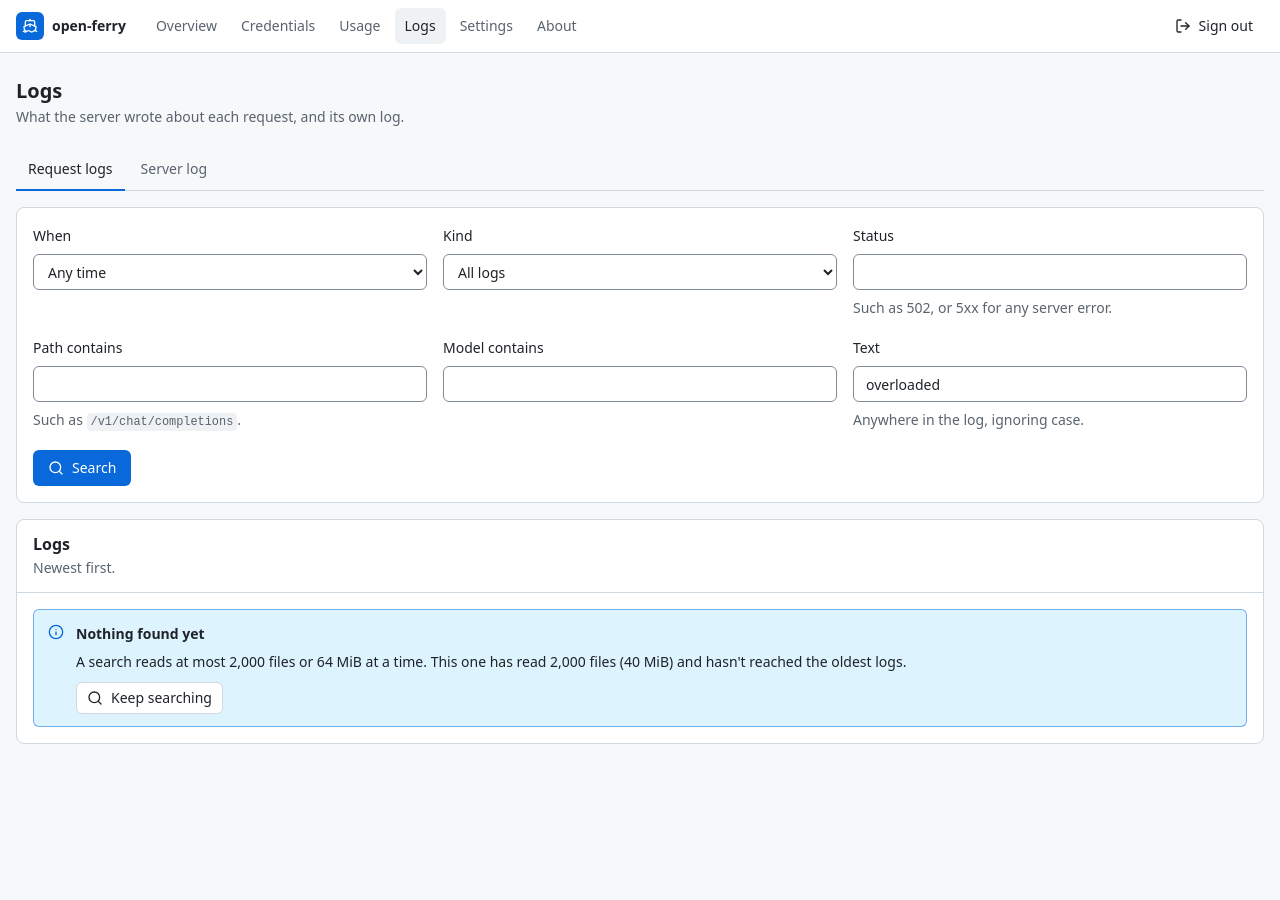
it: the request log search › offers to keep searching where a search stopped at its limit, not 'no results'
The width and height of the screenshot is (1280, 900).
Expected: the text "Nothing found yet" is shown, top-left (76, 624), bottom-right (205, 643)
Expected: the text "has read 2,000 files (40 MiB)" is shown, top-left (76, 650), bottom-right (906, 674)
Click the button "Keep searching" at x=149, y=698, box top-left (76, 682), bottom-right (223, 714)
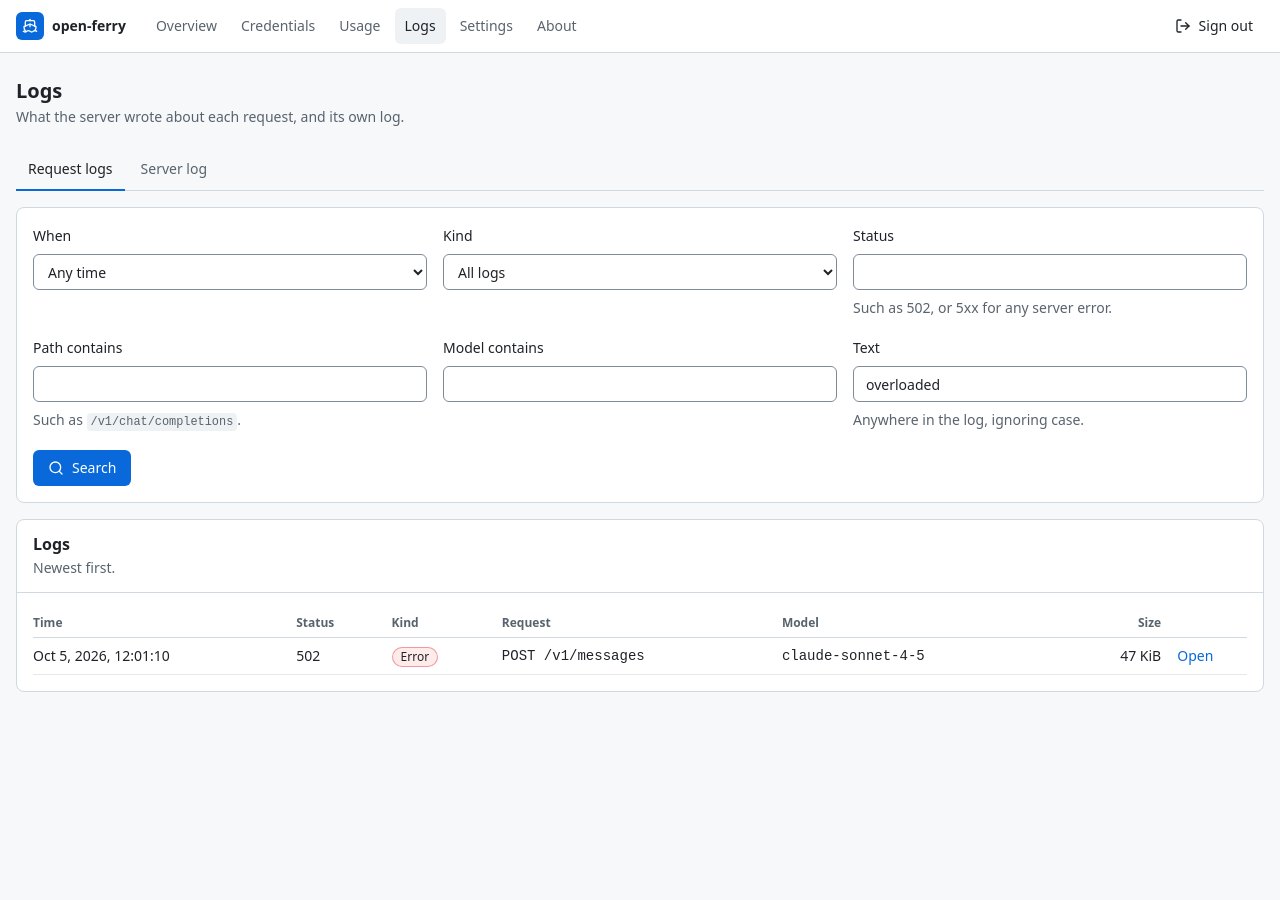
Expected: the table named "Request logs, newest first" shows "/v1/messages", top-left (33, 609), bottom-right (1247, 675)
Expected: the button "Keep searching" is gone
